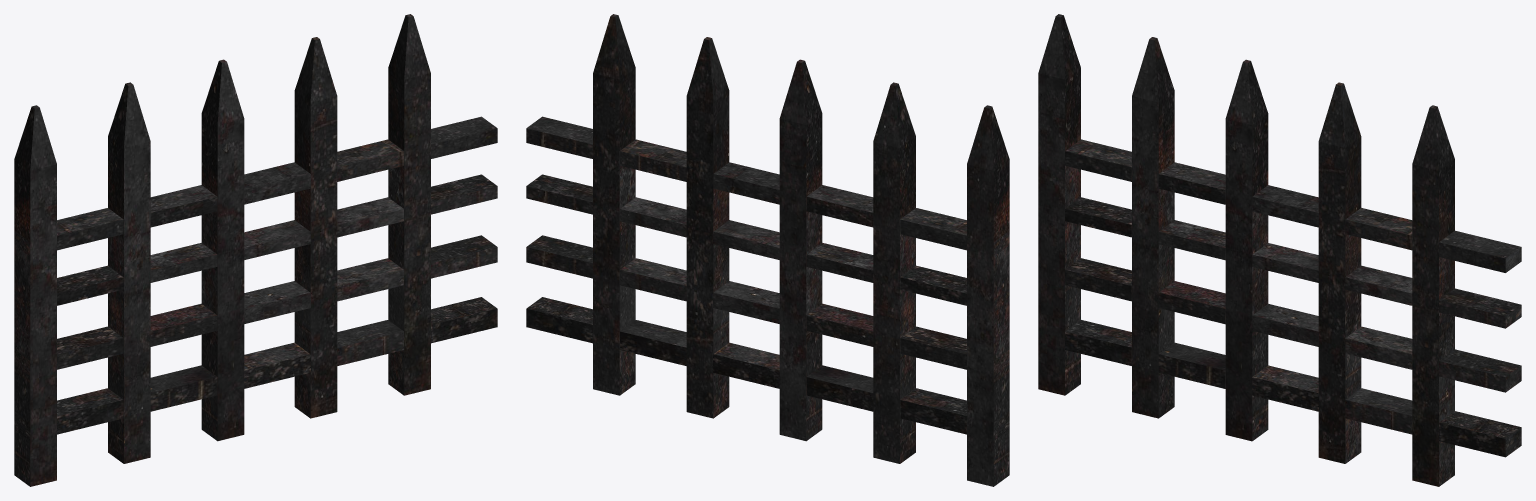
The model's file is fence.fbx.
3 views of the same model, side by side, from view 1: azimuth 30°, elevation 25°; view 2: azimuth 150°, elevation 25°; view 3: azimuth 330°, elevation 25° (orthographic).
Visible parts, largest first — view 1: pCube14; view 2: pCube14; view 3: pCube14.
Part boxes in pixels (box(x1,y1,x2,y2)): pCube14: box(14, 14, 497, 486); pCube14: box(526, 14, 1009, 486); pCube14: box(1038, 14, 1521, 486).
Bounding box in the file's own units: 4.15 × 3.15 × 0.246.
Materials: 1 (1 with a texture image).
